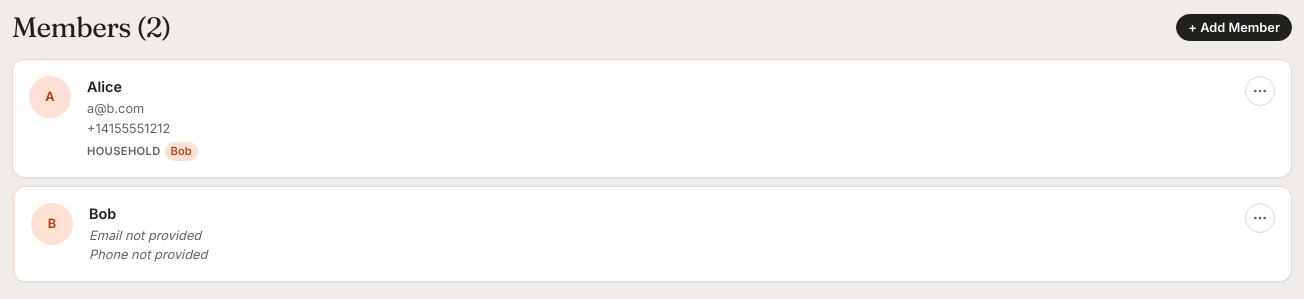
it: MembersTab › shows Link Household option in action menu for parent member
Alice has linkedMembers — should show "Edit Household"
Click the button named "Actions for": (1260, 91) [1245,76,1275,106]
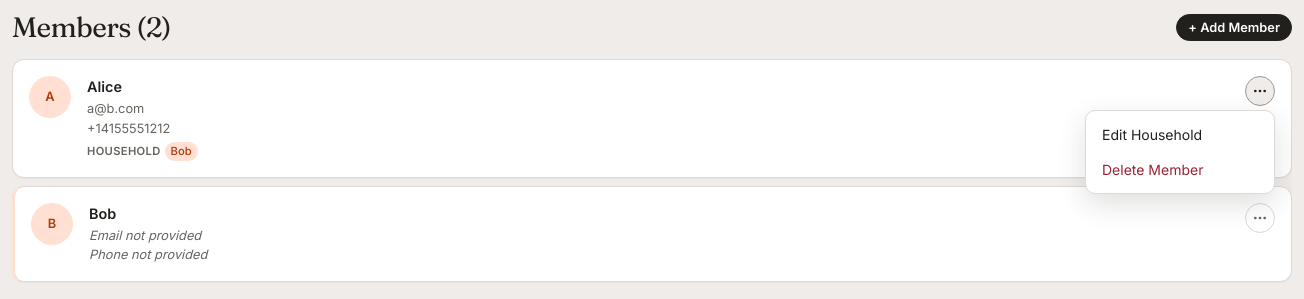
Expected: the menu item "Edit Household" is shown, [1092,117,1268,152]
